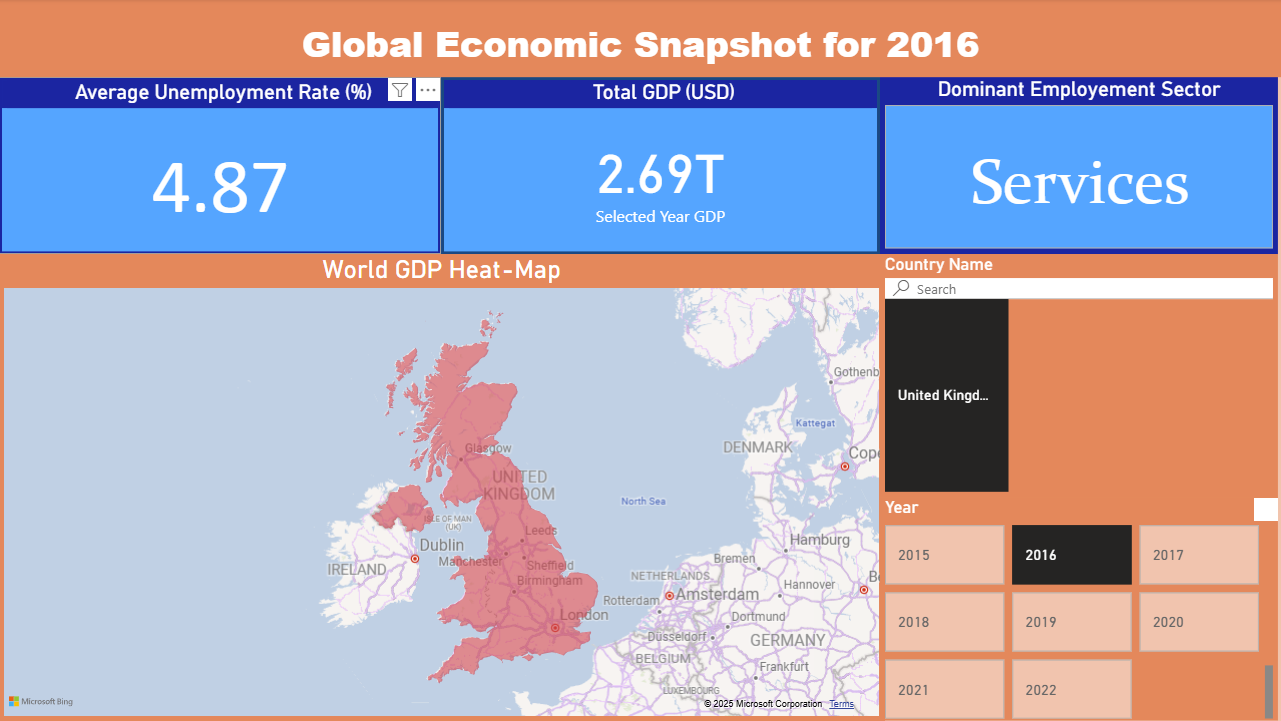

What the dashboard file says about the page in this screenshot:
{"tool":"powerbi","page":{"name":"Snapshot","canvas":[1280,720],"ordinal":0},"visuals":[{"type":"card","title":"Total GDP (USD)","fields":{"Values":["Dates.Selected Year GDP"]},"box":[441.4,77.8,437.9,176.6],"z":0},{"type":"card","title":"Average Unemployment Rate (%)","fields":{"Values":["Avg(Employment_Unemployment_GDP_data.Unemployment Rate)"]},"box":[0,77.8,441.4,176.6],"z":1000},{"type":"filledMap","title":"World GDP Heat-Map","fields":{"Category":["Employment_Unemployment_GDP_data.Country Name"]},"box":[0,254.4,882.9,465.9],"z":2000},{"type":"cardVisual","title":"Dominant Employement Sector","fields":{"Data":["Dates.Dominant Sector"]},"box":[879.3,77.8,397.2,176.6],"z":3000},{"type":"cardVisual","fields":{"Data":["Dates.Dynamic Page Title"]},"box":[0,0,1280,77.8],"z":4000},{"type":"advancedSlicerVisual","fields":{"Values":["Dates.Year"]},"box":[879.3,497.1,397.2,223],"z":5000},{"type":"advancedSlicerVisual","fields":{"Values":["Employment_Unemployment_GDP_data.Country Name"]},"box":[879.3,254.4,397.2,242.8],"z":6000}]}

Visuals, with their boxes in screenshot pixels (x1, y1, x2, y2), scaled from the page's 1280x720 canvas onto the 1281x721 screenshot:
"Total GDP (USD)" card: [x1=442, y1=78, x2=880, y2=255]
"Average Unemployment Rate (%)" card: [x1=0, y1=78, x2=442, y2=255]
"World GDP Heat-Map" filledMap: [x1=0, y1=255, x2=884, y2=720]
"Dominant Employement Sector" cardVisual: [x1=880, y1=78, x2=1277, y2=255]
cardVisual - Dates.Dynamic Page Title: [x1=0, y1=0, x2=1280, y2=78]
advancedSlicerVisual - Dates.Year: [x1=880, y1=498, x2=1277, y2=720]
advancedSlicerVisual - Employment_Unemployment_GDP_data.Country Name: [x1=880, y1=255, x2=1277, y2=498]
